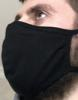with_mask: (2, 1, 78, 100)
